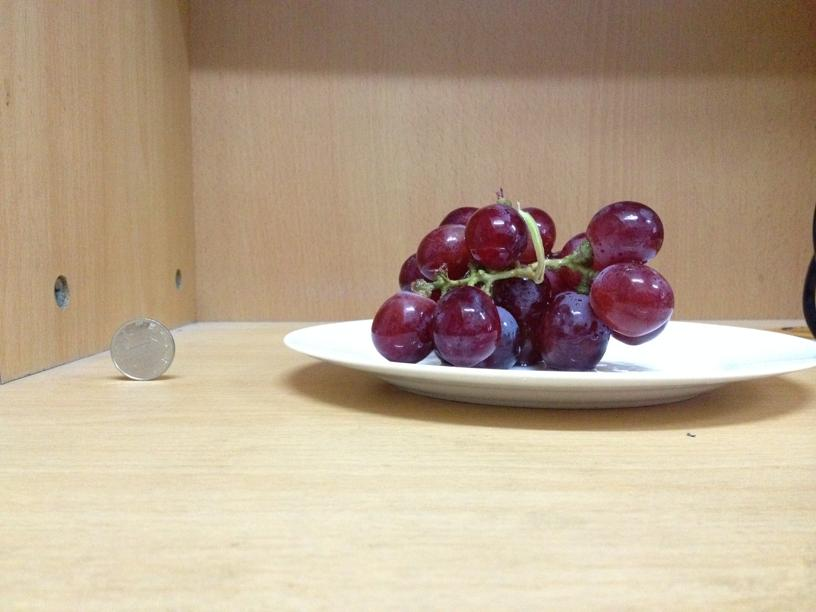coin: (109, 316, 175, 380)
grape: (370, 197, 673, 369)
